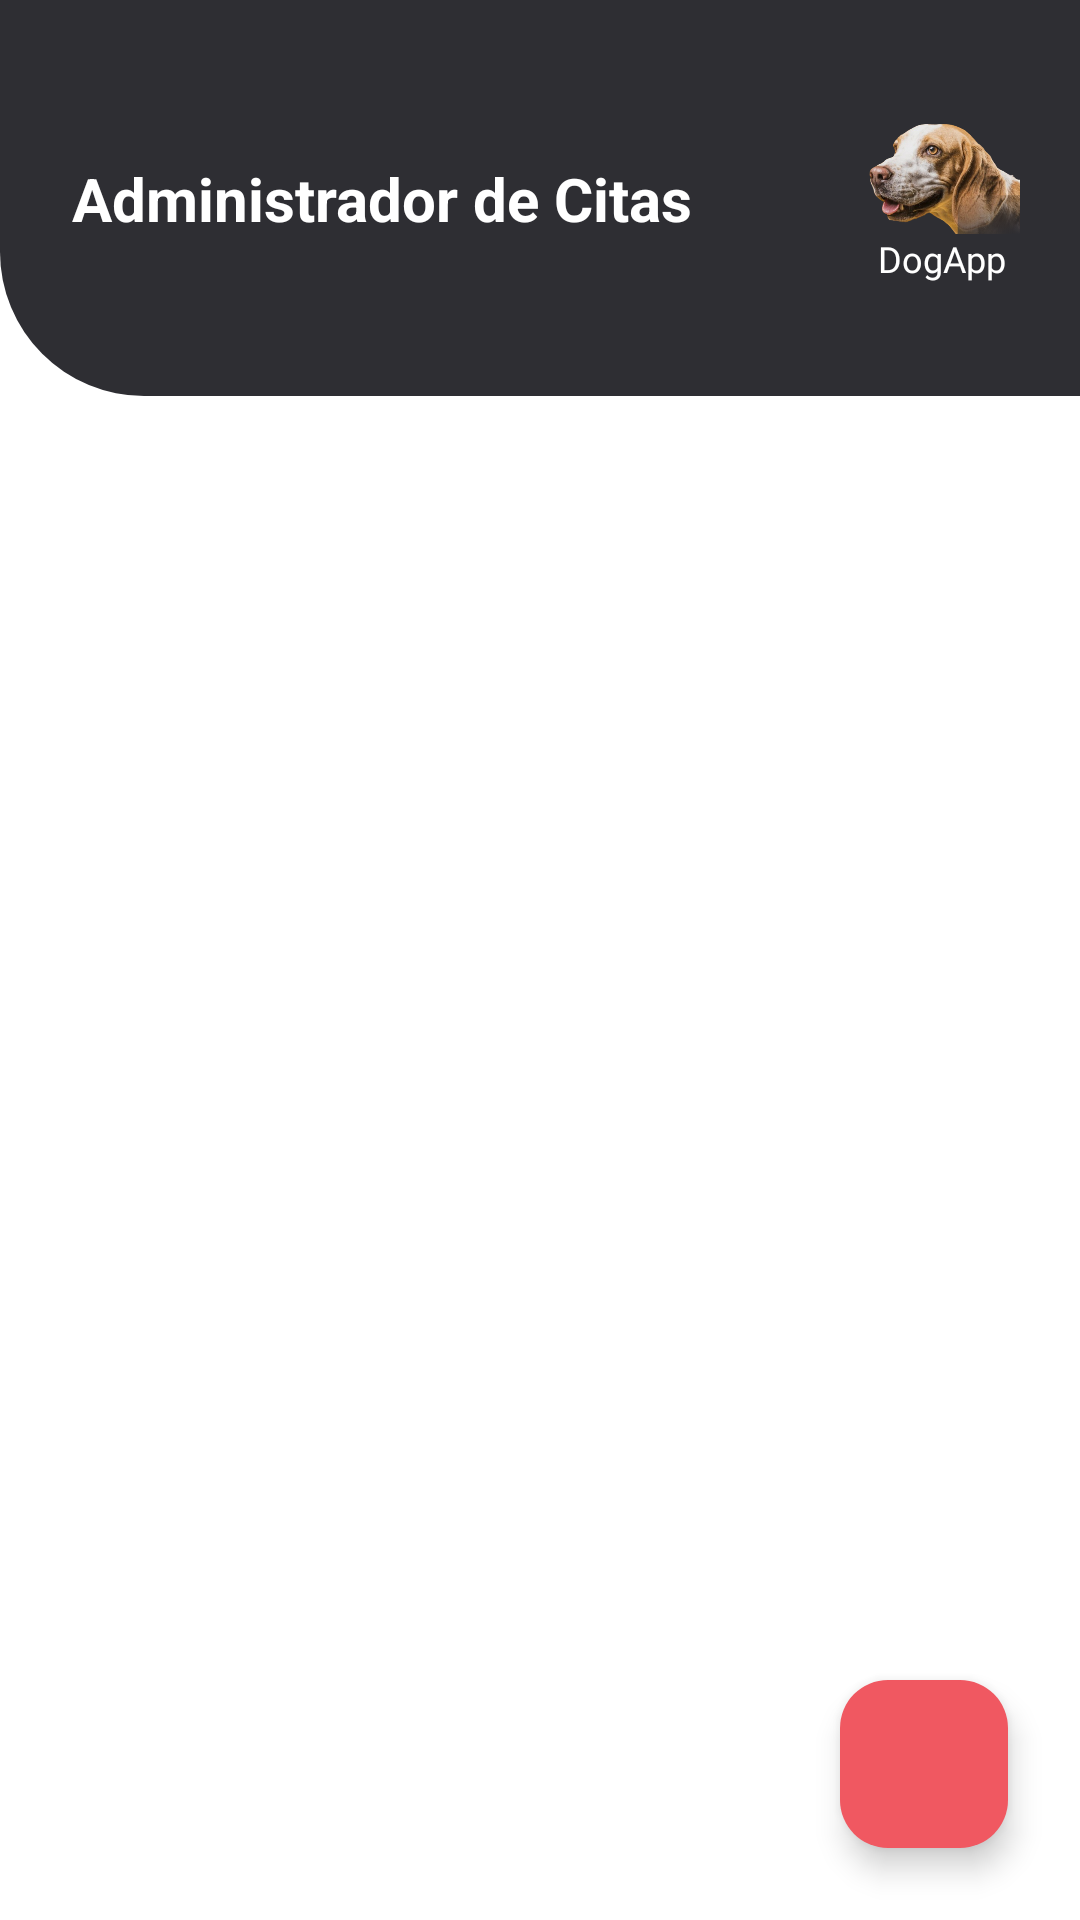

Icons on this 1080 x 1920 Android screen, each with the point to tap as [x,y]:
Perro: [944,179]
